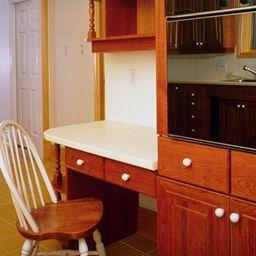Armario: (159, 138, 255, 252)
Electrodomestico: (159, 5, 254, 155)
